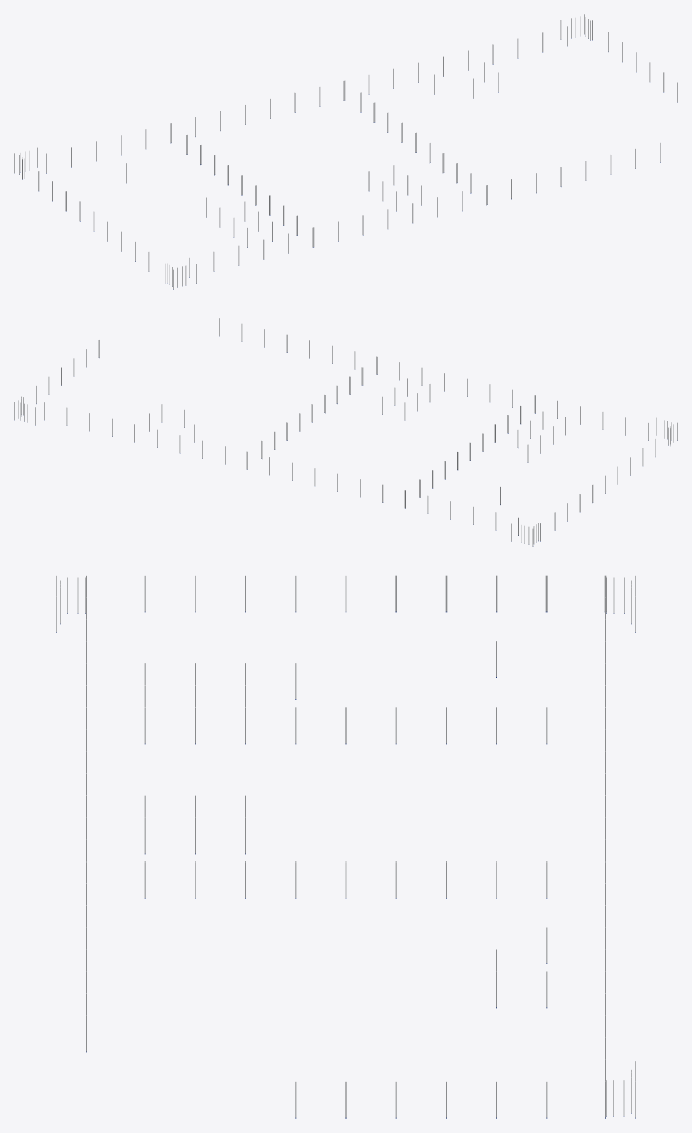
File: SM_MPR_CAD_NestedColumns_20261112.fbx
3 views of the same model, one above another, from view 1: azimuth 30°, elevation 25°; view 2: azimuth 150°, elevation 25°; view 3: azimuth 270°, elevation 25° (orthographic). The views are drawn at different scales.
Parts seen in each view (by area): view 1: SM_MPR_CAD_NestedColumns_20261112; view 2: SM_MPR_CAD_NestedColumns_20261112; view 3: SM_MPR_CAD_NestedColumns_20261112.
Boxes of the visible parts, <box> form: SM_MPR_CAD_NestedColumns_20261112: <box>14,14,677,289</box>; SM_MPR_CAD_NestedColumns_20261112: <box>14,318,677,546</box>; SM_MPR_CAD_NestedColumns_20261112: <box>56,575,635,1118</box>.
Bounding box in the file's own units: 36391 × 17607 × 1220.
